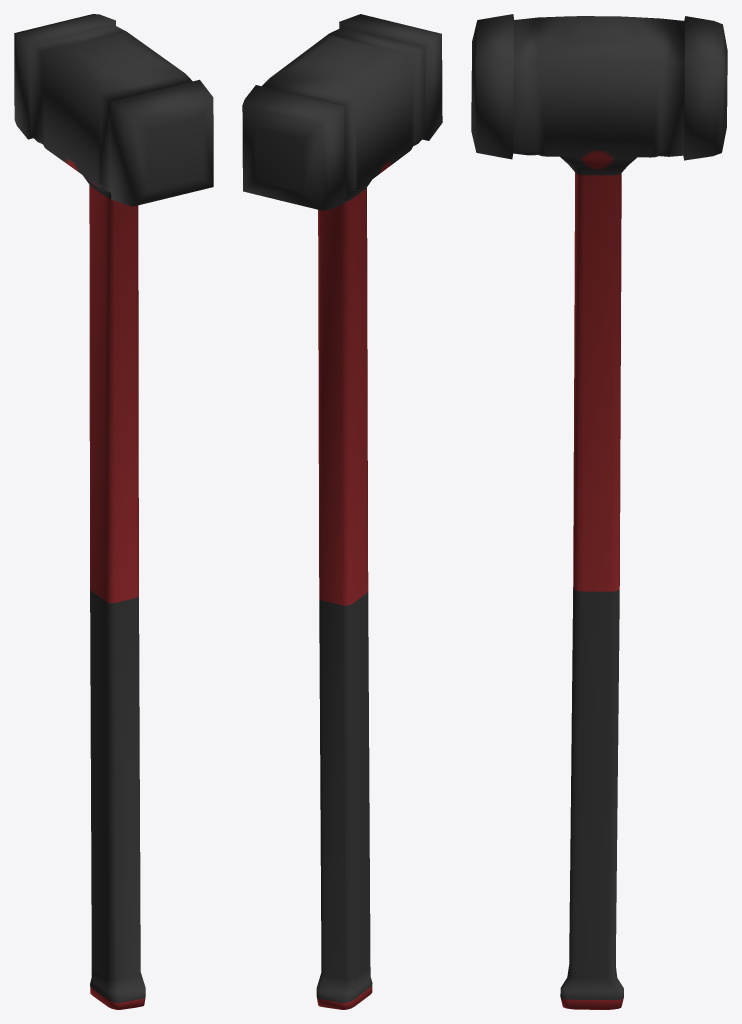
File: AuthenticTagillaSledgehammer.fbx
3 views of the same model, side by side, from view 1: azimuth 30°, elevation 25°; view 2: azimuth 150°, elevation 25°; view 3: azimuth 270°, elevation 25° (orthographic). The views are drawn at different scales.
Parts seen in each view (by area): view 1: SledgehammerTagilla; view 2: SledgehammerTagilla; view 3: SledgehammerTagilla.
Part boxes in pixels (bbox=[...]): SledgehammerTagilla: bbox=[14, 14, 213, 1009]; SledgehammerTagilla: bbox=[242, 14, 442, 1009]; SledgehammerTagilla: bbox=[471, 14, 727, 1009].
Size of the model in its own units: 0.0588 by 0.5998 by 0.1418.
